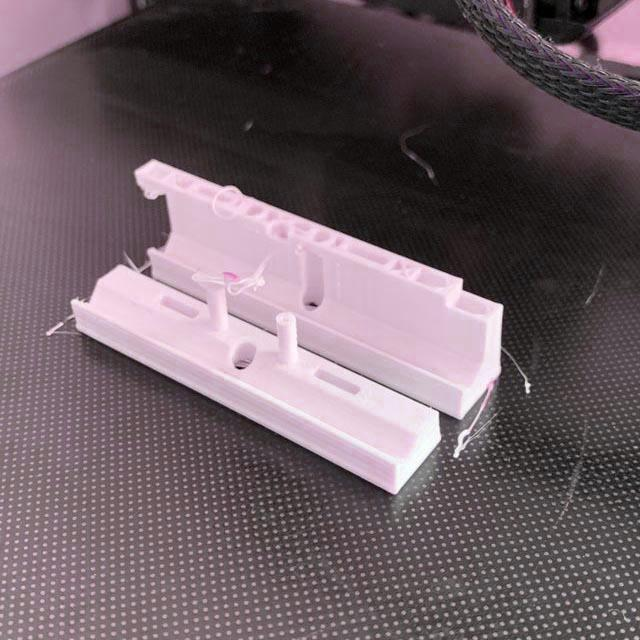spaghetti: (213, 184, 257, 222), (195, 273, 266, 296), (125, 250, 154, 277)
